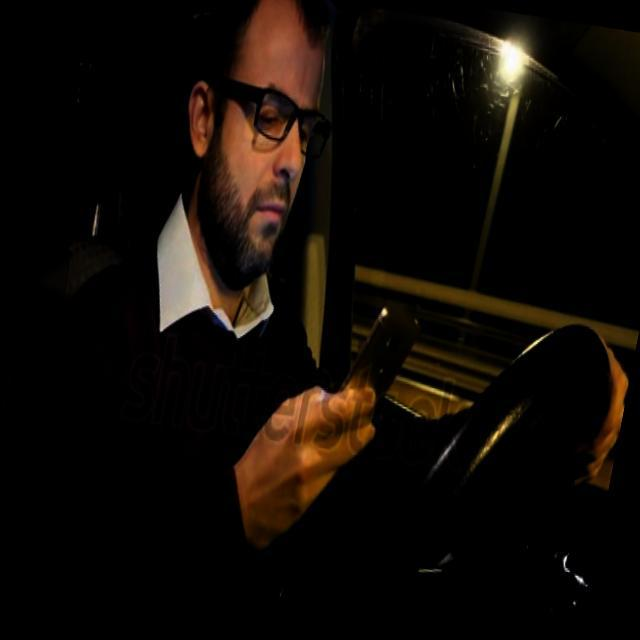PhoneCall: (330, 302, 423, 430)
